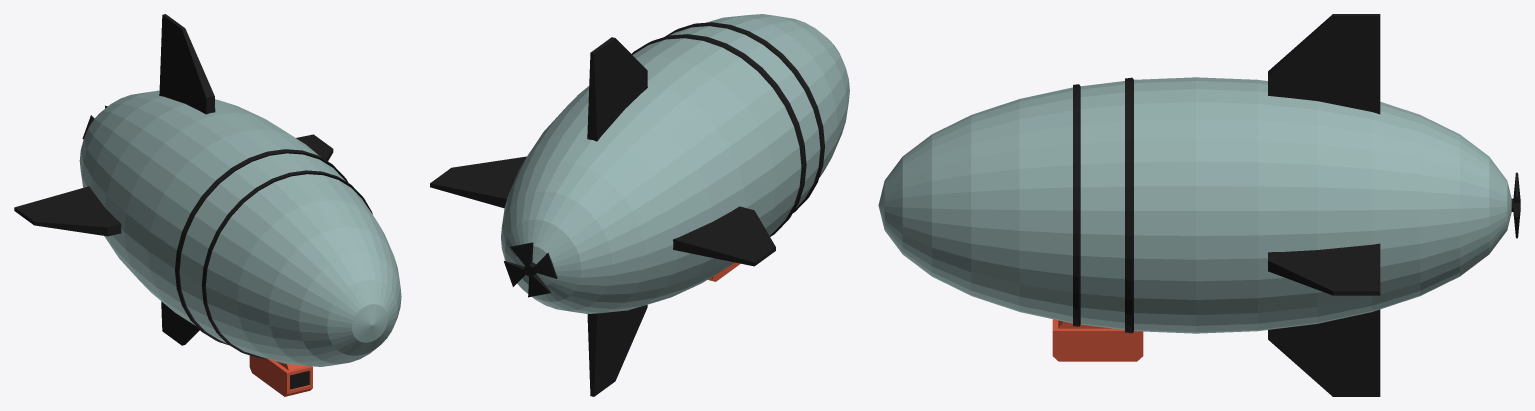
The model's file is zepplin.fbx.
3 renders of one model, left to right at view 1: azimuth 30°, elevation 25°; view 2: azimuth 150°, elevation 25°; view 3: azimuth 270°, elevation 25°, orthographic. The views are drawn at different scales.
Parts seen in each view (by area): view 1: Sphere, Cube.001, Cube.002, Cube; view 2: Sphere, Cube.001, Cube.002, Cylinder; view 3: Sphere, Cube.001, Cube.002, Cube.
Boxes of the visible parts, x1,y1,x2,y2 form: Sphere: (79,90,401,366); Cube.001: (159,14,215,345); Cube.002: (14,134,333,236); Cube: (249,355,312,396); Sphere: (501,14,849,313); Cube.001: (587,37,647,396); Cube.002: (430,156,775,266); Cylinder: (504,242,557,297); Sphere: (878,77,1511,333); Cube.001: (1268,14,1380,396); Cube.002: (1268,243,1380,295); Cube: (1052,319,1143,361).
Bounding box in the file's own units: 324 × 328 × 501.
